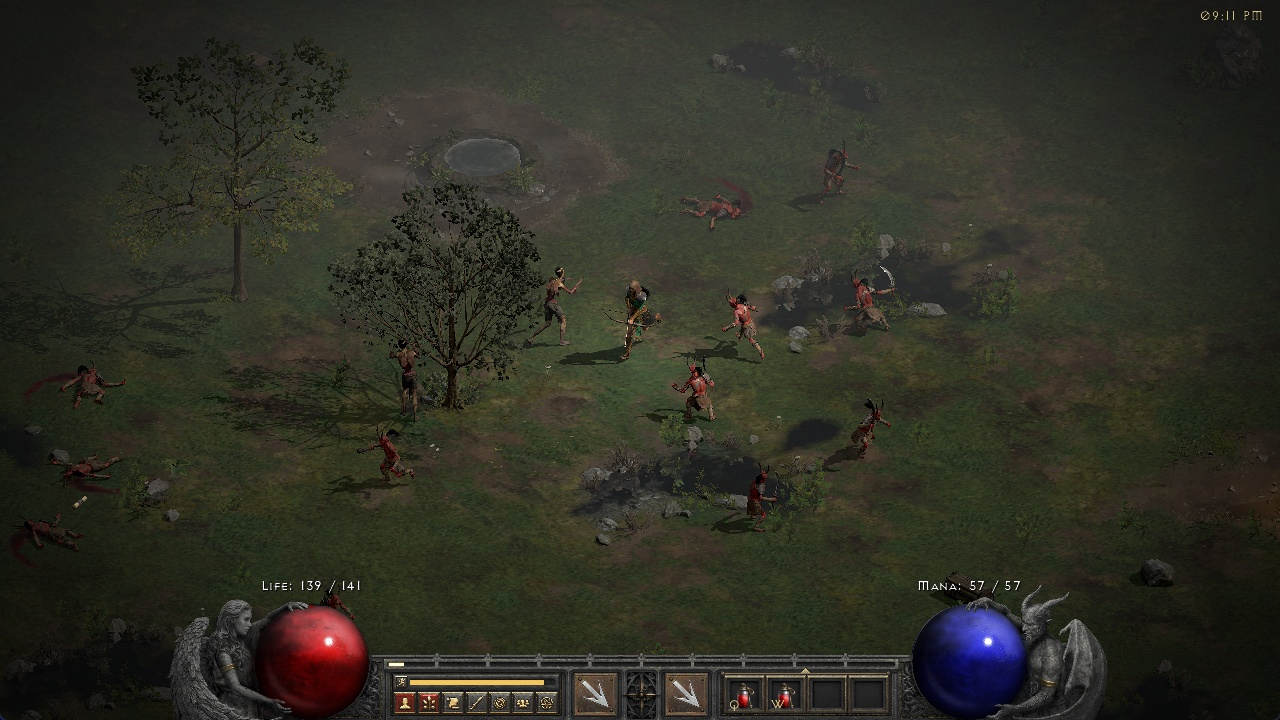fallen: (834, 265, 912, 335), (668, 352, 735, 421), (811, 139, 875, 211), (351, 421, 416, 483), (845, 389, 895, 466), (740, 464, 794, 535), (715, 294, 772, 357)
